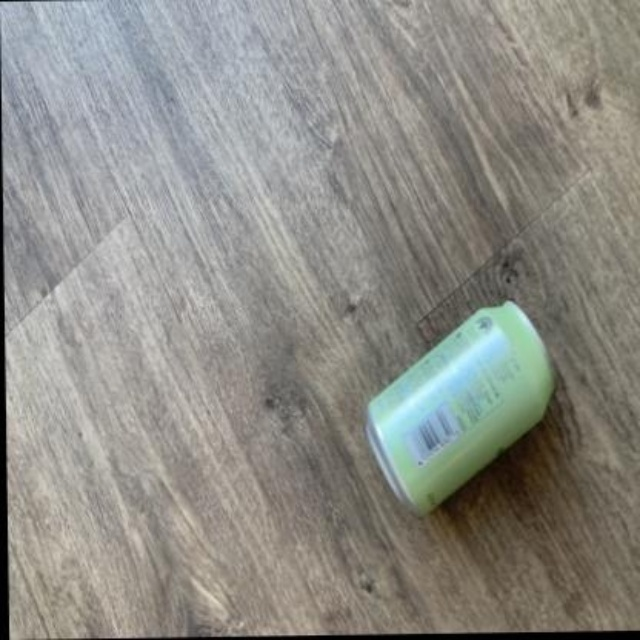trash: (366, 302, 552, 514)
